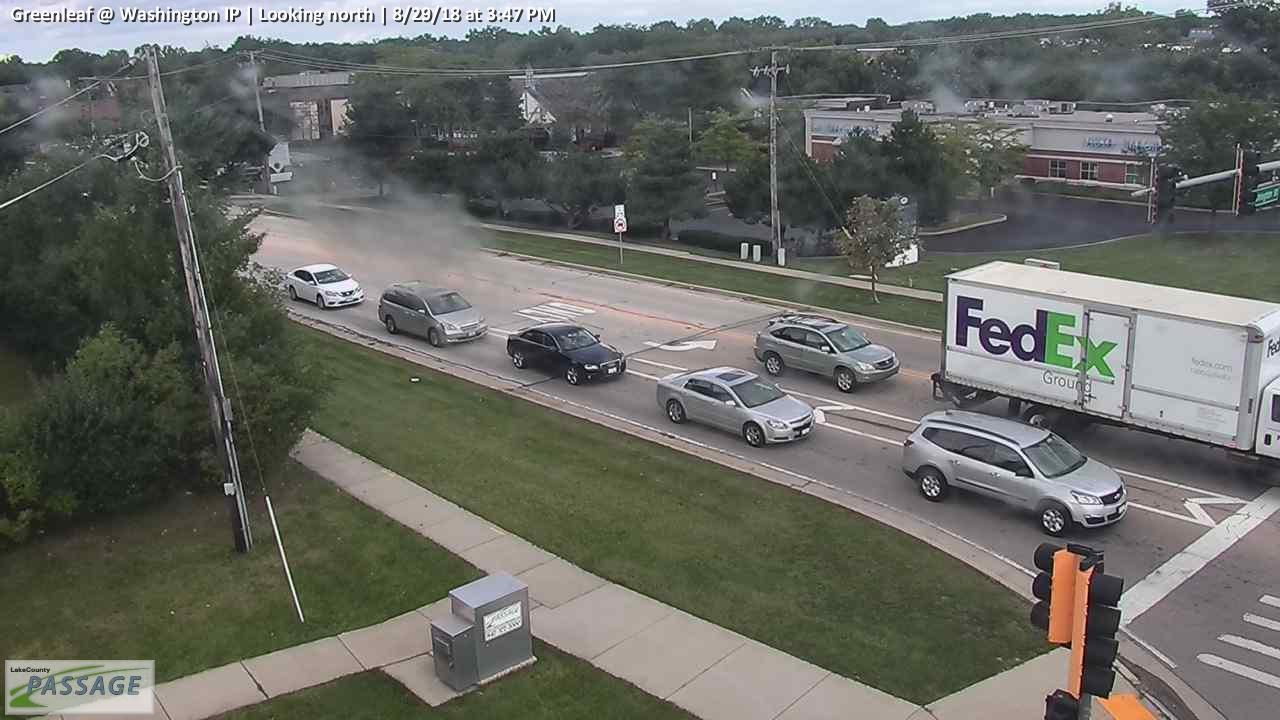SUV: (902, 410, 1129, 532), (753, 312, 901, 393), (376, 281, 489, 345)
Sedan: (656, 365, 818, 448), (506, 320, 627, 386), (282, 263, 365, 306)
Truck: (928, 254, 1280, 459)
